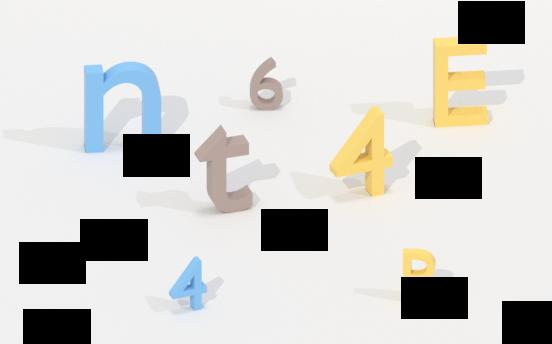4: (328, 100, 393, 202), (165, 251, 211, 314)
6: (249, 51, 285, 114)
E-hoa: (425, 26, 493, 132)
R-hoa: (399, 244, 448, 310)
n: (79, 57, 166, 156)
t: (191, 120, 259, 215)
